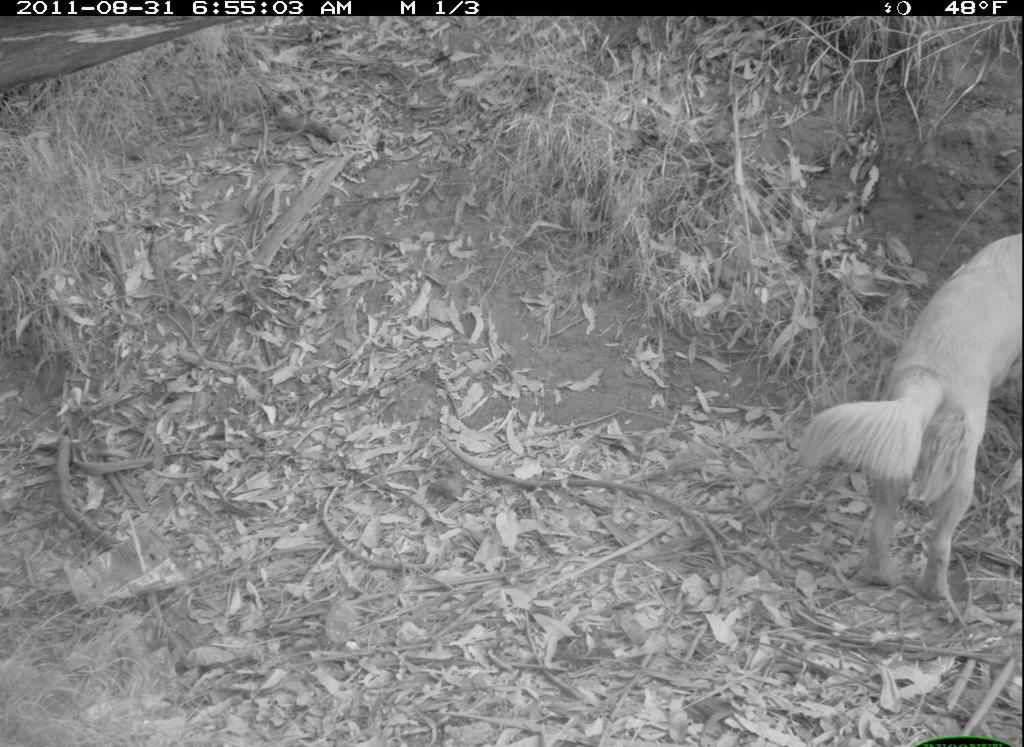dog: (783, 207, 1023, 633)
